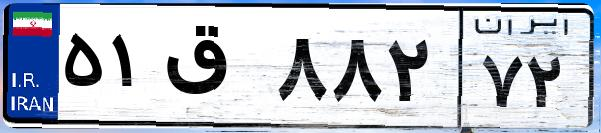1: (110, 28, 158, 98)
2: (385, 28, 445, 110), (525, 38, 570, 115)
5: (57, 26, 110, 100)
7: (475, 38, 525, 113)
8: (270, 28, 330, 110), (330, 28, 385, 110)
ق: (158, 20, 270, 120)
